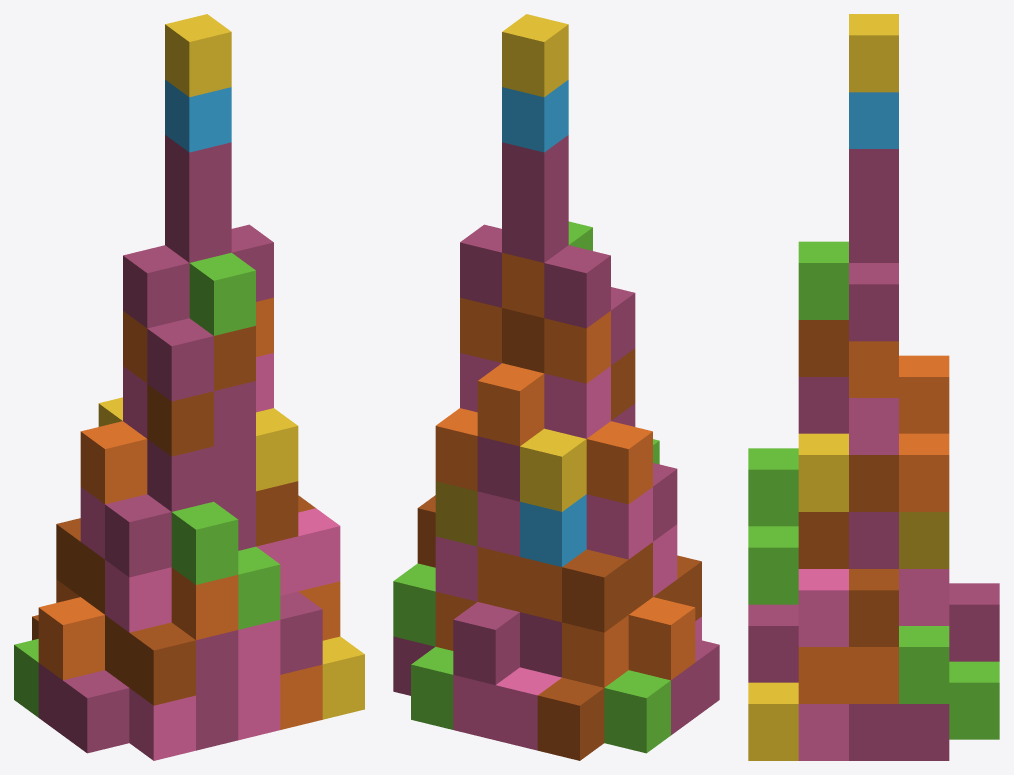
The model's file is DesertCrag.obj.
3 renders of one model, left to right at view 1: azimuth 30°, elevation 25°; view 2: azimuth 150°, elevation 25°; view 3: azimuth 270°, elevation 25°, orthographic. The views are drawn at different scales.
Parts seen in each view (by area): view 1: DesertCrag; view 2: DesertCrag; view 3: DesertCrag.
Part boxes in pixels (x1=…): DesertCrag: x1=14, y1=14, x2=364, y2=760; DesertCrag: x1=393, y1=14, x2=719, y2=760; DesertCrag: x1=748, y1=14, x2=999, y2=760.
Size of the model in its own units: 12 by 30 by 10.
